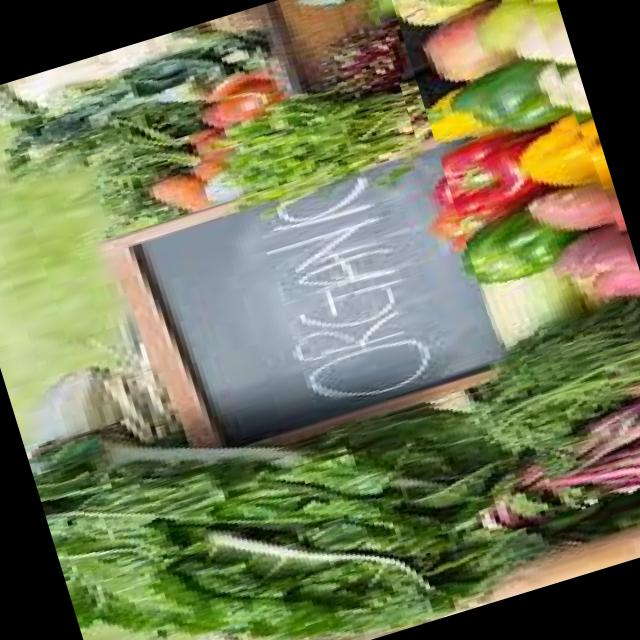Organic: (46, 328, 640, 640), (0, 0, 417, 256), (381, 0, 640, 374)
